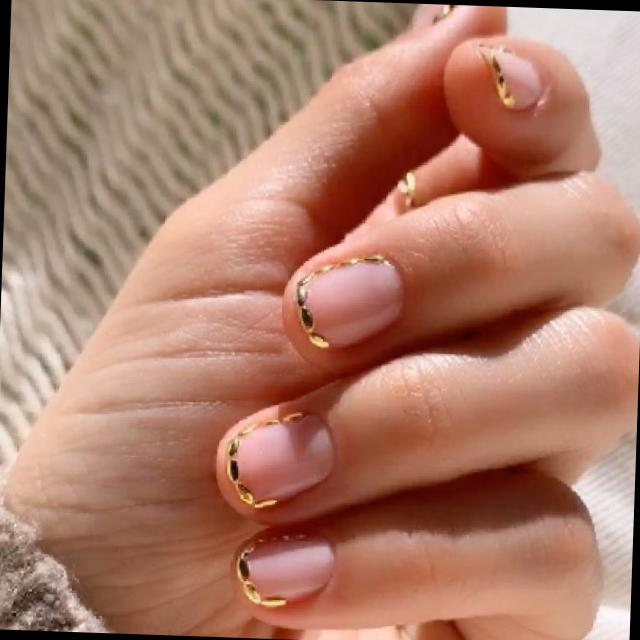Nail: (221, 410, 335, 510), (293, 255, 404, 349), (235, 533, 334, 607), (479, 44, 542, 110)
